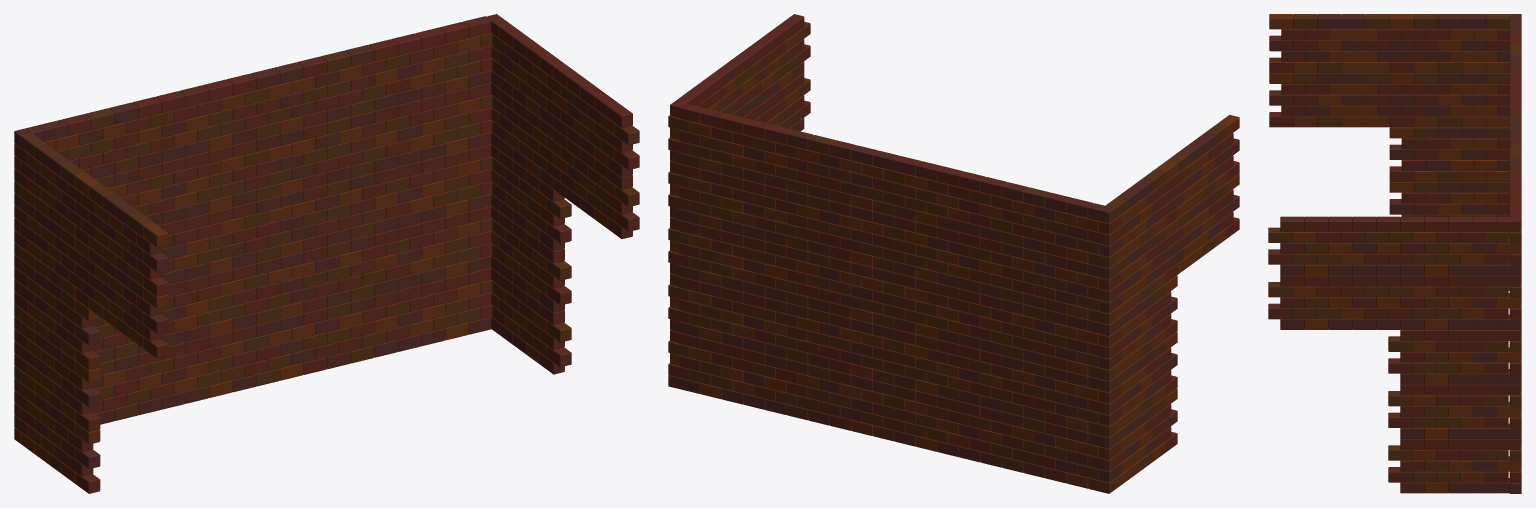
File: generalquarter.fbx
3 renders of one model, left to right at view 1: azimuth 30°, elevation 25°; view 2: azimuth 150°, elevation 25°; view 3: azimuth 270°, elevation 25°, orthographic. The views are drawn at different scales.
Parts seen in each view (by area): view 1: Cube.012, Cube.030, Cube.032, Cube.004, Cube.011, Cube.022, Cube.029, Cube.020, Cube.026, Cube.028, Cube.031, Cube.025 (+21 smaller); view 2: Cube.012, Cube.032, Cube.010, Cube.030, Cube.005, Cube.011, Cube.008, Cube.004, Cube.028, Cube.031, Cube.025, Cube.217 (+18 smaller); view 3: Cube.041, Cube.018, Cube.039, Cube.017, Cube.040, Cube.036, Cube.019, Cube.037, Cube.038, Cube.035, Cube.015, Cube.016 (+9 smaller).
Part boxes in pixels (x1,y1,x2,y2): Cube.012: (132,73,267,168); Cube.030: (250,45,385,139); Cube.032: (368,16,492,110); Cube.004: (138,325,267,415); Cube.011: (138,140,267,225); Cube.022: (256,234,385,324); Cube.029: (256,111,385,201); Cube.020: (256,296,385,386); Cube.026: (256,173,385,262); Cube.028: (374,144,492,233); Cube.031: (374,82,492,172); Cube.025: (374,206,492,295); Cube.012: (883,156,1007,242); Cube.032: (668,103,791,189); Cube.010: (991,182,1115,268); Cube.030: (776,129,899,215); Cube.005: (883,329,1002,411); Cube.011: (883,216,1002,298); Cube.008: (883,272,1002,354); Cube.004: (883,385,1002,467); Cube.028: (668,220,786,302); Cube.031: (668,163,786,245); Cube.025: (668,276,786,358); Cube.217: (991,411,1115,493); Cube.041: (1268,216,1400,275); Cube.018: (1269,14,1401,72); Cube.039: (1388,216,1520,275); Cube.017: (1389,14,1509,72); Cube.040: (1268,275,1400,329); Cube.036: (1388,384,1520,438); Cube.019: (1269,72,1401,127); Cube.037: (1388,329,1520,384); Cube.038: (1388,275,1520,329); Cube.035: (1388,438,1520,493); Cube.015: (1389,127,1509,181); Cube.016: (1389,72,1509,127).
Bounding box in the file's own units: 820 × 500 × 422.
